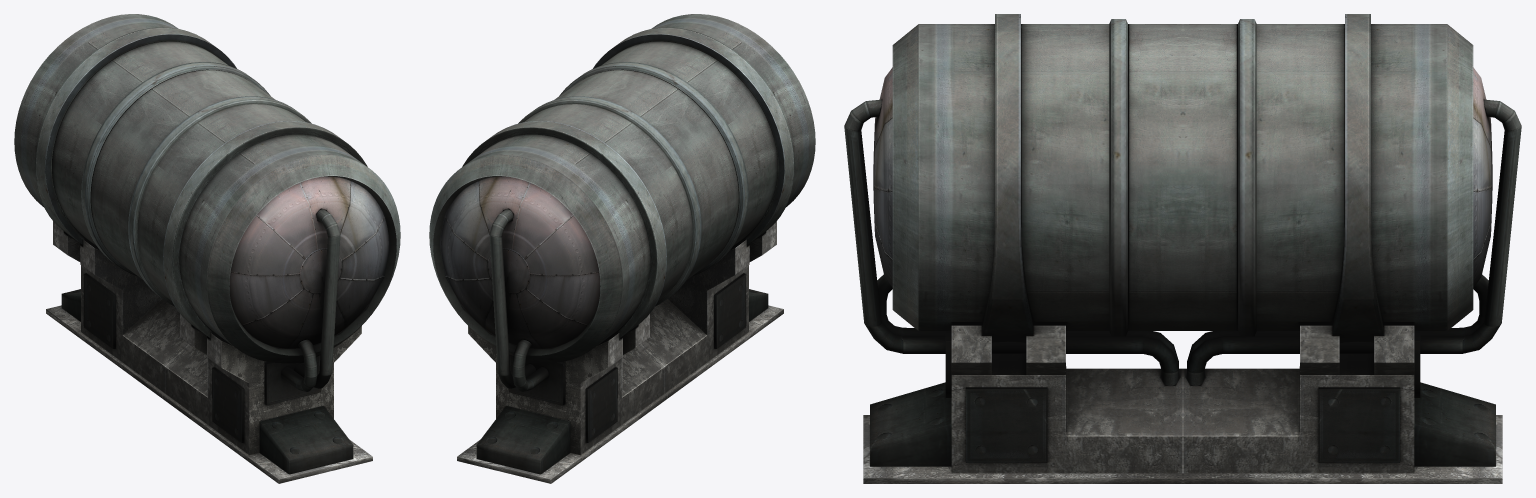
File: Water_Tank_fbx.fbx
3 views of the same model, side by side, from view 1: azimuth 30°, elevation 25°; view 2: azimuth 150°, elevation 25°; view 3: azimuth 270°, elevation 25° (orthographic). The views are drawn at different scales.
Visible parts, largest first — view 1: water tank; view 2: water tank; view 3: water tank.
Part boxes in pixels (x1,y1,x2,y2): water tank: (14,14,400,483); water tank: (429,14,815,483); water tank: (844,14,1521,483).
Size of the model in its own units: 2.08 by 2.96 by 4.3.
1 material, 1 textured.
